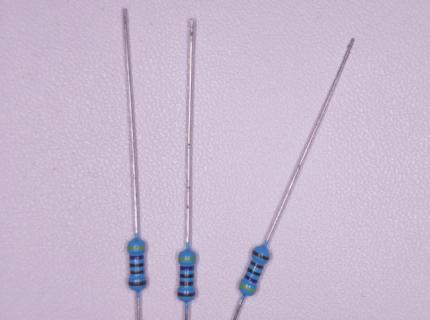Black band: (247, 267, 261, 277), (180, 274, 194, 278), (130, 263, 144, 267)
Brown band: (251, 250, 270, 262), (249, 261, 264, 270), (128, 281, 146, 286), (178, 292, 196, 297), (179, 281, 194, 286), (130, 270, 145, 275)
Violet band: (244, 274, 258, 284), (129, 254, 144, 260), (180, 266, 195, 271)
Yellow band: (239, 283, 257, 294), (127, 246, 146, 251), (178, 256, 196, 261)
